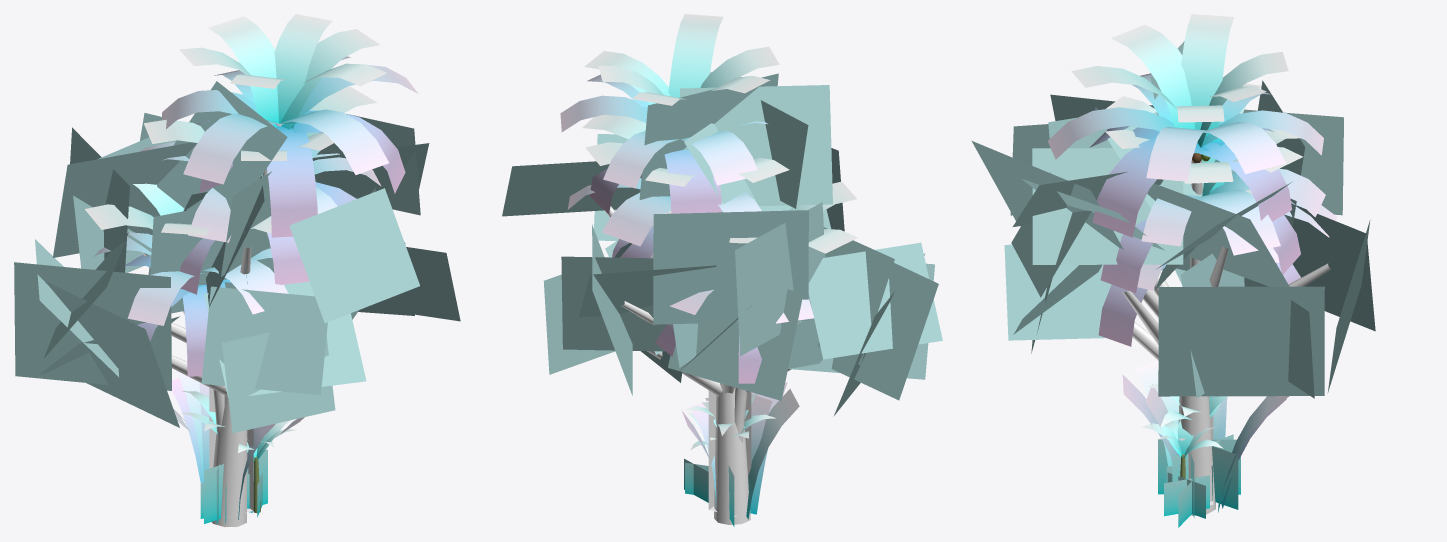
Rendered from kit-flora.glb.
3 views of the same model, side by side, from view 1: azimuth 30°, elevation 25°; view 2: azimuth 150°, elevation 25°; view 3: azimuth 270°, elevation 25° (orthographic). The views are drawn at different scales.
Parts seen in each view (by area): view 1: tree_a__L0__leafTree, tree_b__L0__leafTree, palm_b__L0__leafPalm, palm_c__L0__leafPalm, palm_a__L0__leafPalm, tree_b__L0__bark, nipah__L0__leafPalm, bush_l__L0__leafBush, banana__L0__leafBanana, tree_a__COL; view 2: tree_b__L0__leafTree, palm_b__L0__leafPalm, tree_a__L0__leafTree, palm_a__L0__leafPalm, tree_b__L0__bark, palm_c__L0__leafPalm, nipah__L0__leafPalm, tree_a__COL, bush_l__L0__leafBush, banana__L0__leafBanana, tree_a__L0__bark; view 3: tree_a__L0__leafTree, tree_b__L0__leafTree, palm_b__L0__leafPalm, palm_a__L0__leafPalm, bush_l__L0__leafBush, nipah__L0__leafPalm, palm_c__L0__leafPalm, tree_b__L0__bark, banana__L0__leafBanana, tree_a__L0__bark.
Part boxes in pixels (<box>): tree_a__L0__leafTree: <box>14,176,460,433</box>; tree_b__L0__leafTree: <box>35,81,429,377</box>; palm_b__L0__leafPalm: <box>162,14,418,237</box>; palm_c__L0__leafPalm: <box>85,183,288,376</box>; palm_a__L0__leafPalm: <box>140,86,381,294</box>; tree_b__L0__bark: <box>142,246,251,526</box>; nipah__L0__leafPalm: <box>172,370,304,519</box>; bush_l__L0__leafBush: <box>204,449,267,524</box>; banana__L0__leafBanana: <box>180,391,296,460</box>; tree_a__COL: <box>209,387,253,517</box>; tree_b__L0__leafTree: <box>502,73,942,400</box>; palm_b__L0__leafPalm: <box>560,14,779,213</box>; tree_a__L0__leafTree: <box>543,134,934,416</box>; palm_a__L0__leafPalm: <box>567,115,789,258</box>; tree_b__L0__bark: <box>604,206,750,524</box>; palm_c__L0__leafPalm: <box>650,181,857,383</box>; nipah__L0__leafPalm: <box>682,382,799,519</box>; tree_a__COL: <box>708,390,751,516</box>; bush_l__L0__leafBush: <box>684,458,734,526</box>; banana__L0__leafBanana: <box>685,394,775,449</box>; tree_a__L0__bark: <box>647,351,791,524</box>; tree_a__L0__leafTree: <box>1004,172,1375,398</box>; tree_b__L0__leafTree: <box>971,41,1343,297</box>; palm_b__L0__leafPalm: <box>1048,14,1323,237</box>; palm_a__L0__leafPalm: <box>1100,83,1325,293</box>; bush_l__L0__leafBush: <box>1158,434,1240,527</box>; nipah__L0__leafPalm: <box>1122,360,1289,512</box>; palm_c__L0__leafPalm: <box>1098,138,1337,346</box>; tree_b__L0__bark: <box>1143,246,1330,515</box>; banana__L0__leafBanana: <box>1141,384,1227,457</box>; tree_a__L0__bark: <box>1122,290,1215,514</box>.
Bounding box in the file's own units: 13.21 × 14.25 × 12.54.
